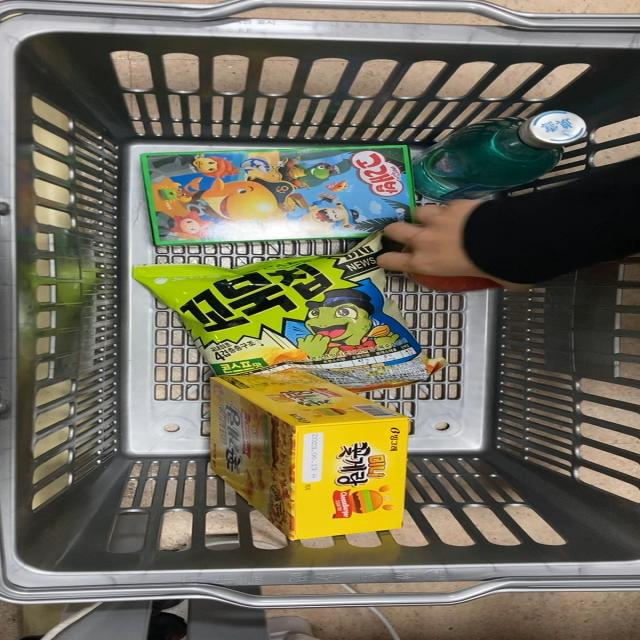ggobukchip: (143, 256, 444, 365)
goraebob: (150, 148, 413, 243)
jinro: (416, 111, 589, 194)
minicrab: (202, 372, 412, 540)
